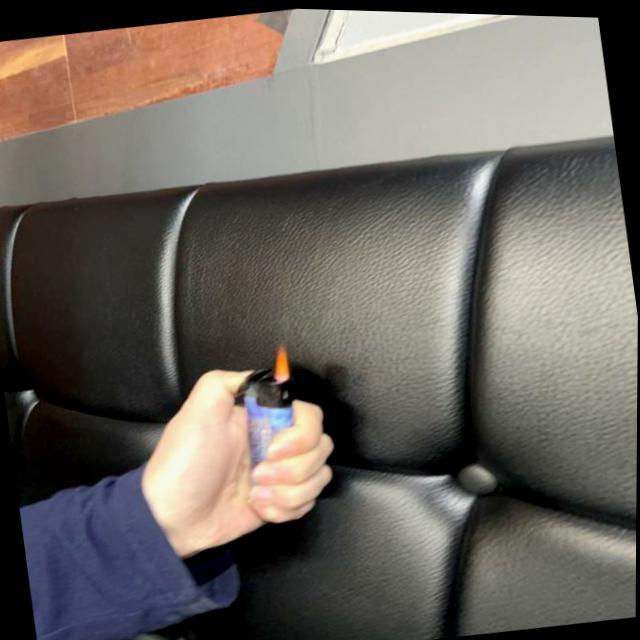Fire: (268, 340, 294, 382)
